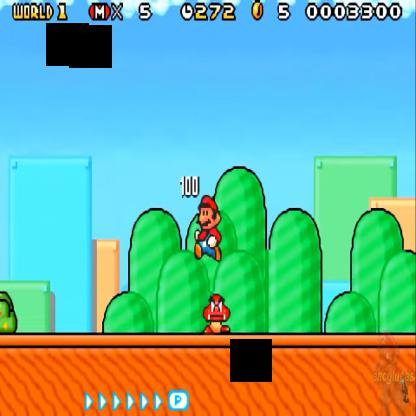Goomba: (201, 292, 233, 338)
Mario: (191, 195, 225, 260)
moneda: (252, 1, 265, 24)
